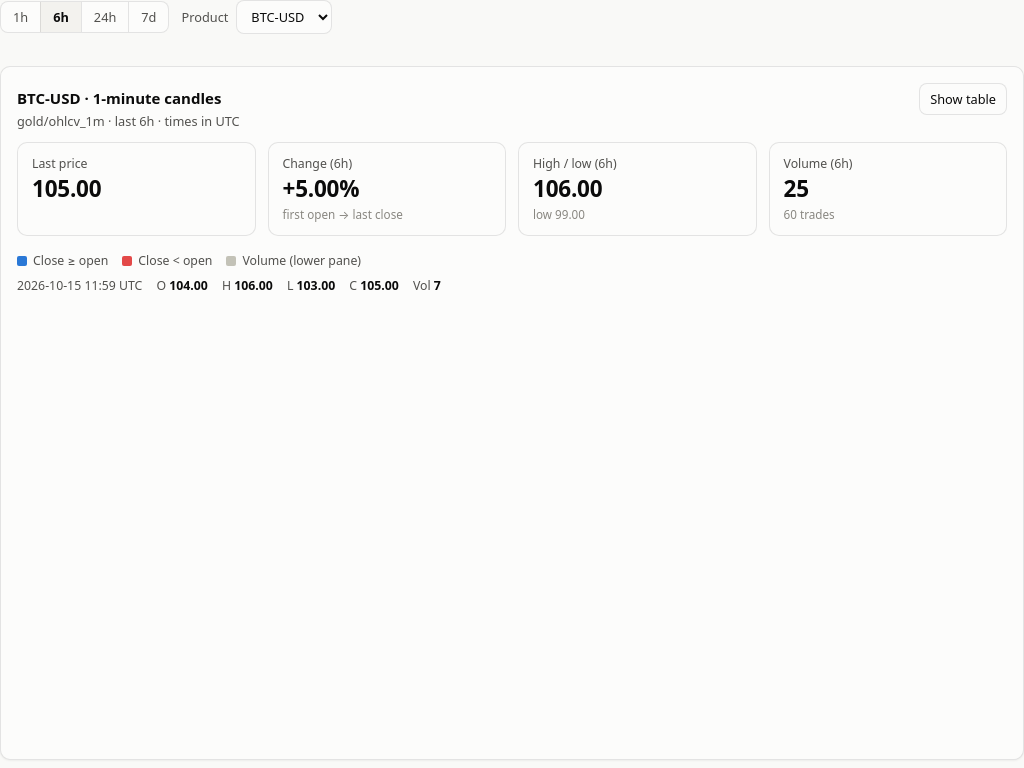
Test: MarketView › offers a table view with every value
The width and height of the screenshot is (1024, 768).
Click the button "Show table": coordinates (963, 99) [919, 83, 1007, 116]
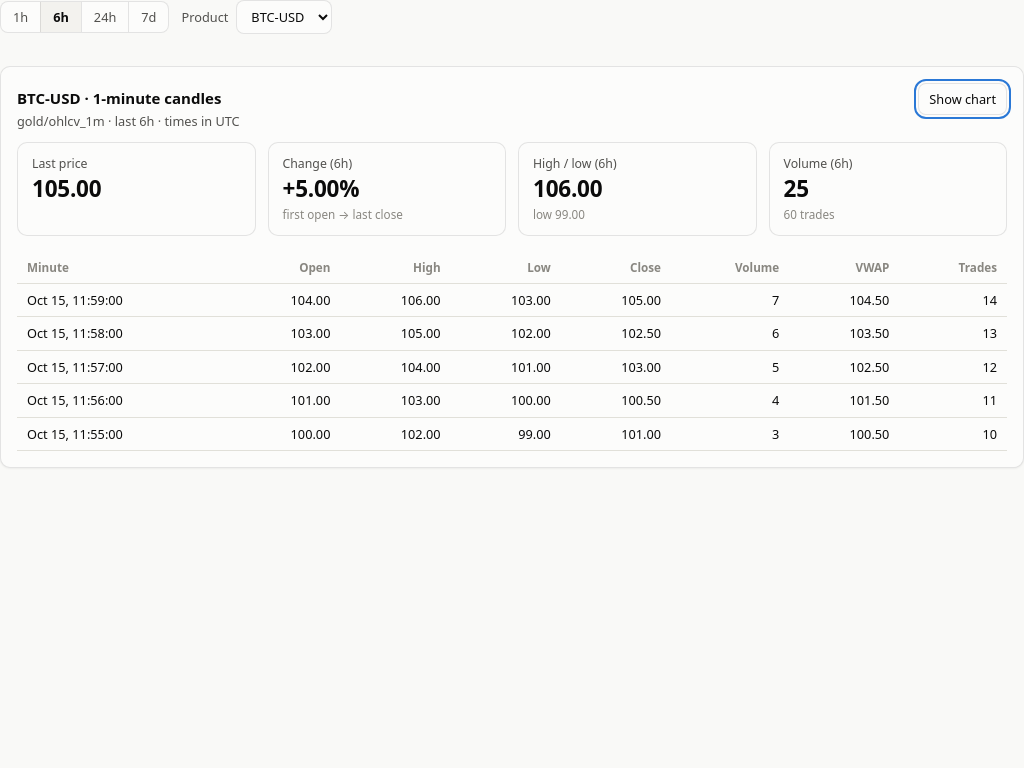
Check: the number of rows is 6, box [17, 252, 1007, 283]; [17, 284, 1007, 317]; [17, 317, 1007, 350]; [17, 350, 1007, 384]; [17, 384, 1007, 417]; [17, 417, 1007, 451]
